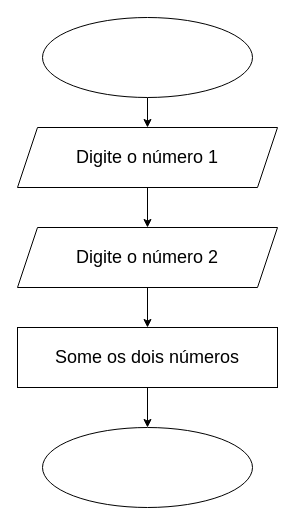
Image size: 295x525. Some labels were removed from this diagram. Each missing label, with the centre of its shape:
Fim: point 147,467
Inicio: point 147,57
